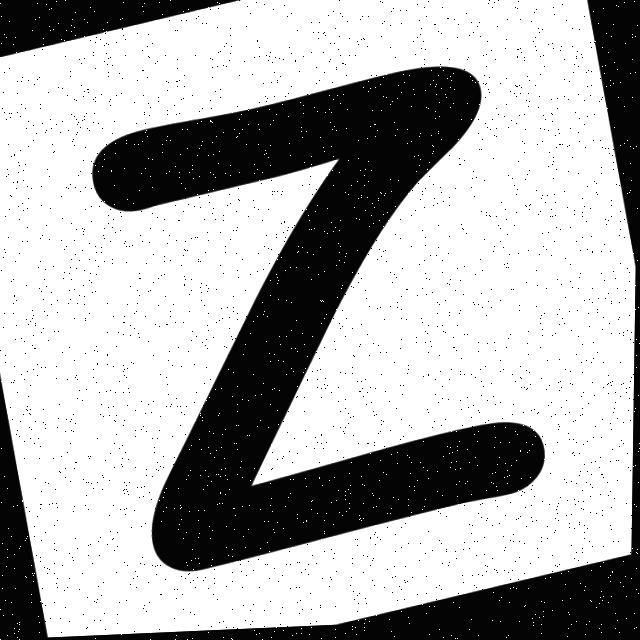Z: (93, 71, 546, 573)
